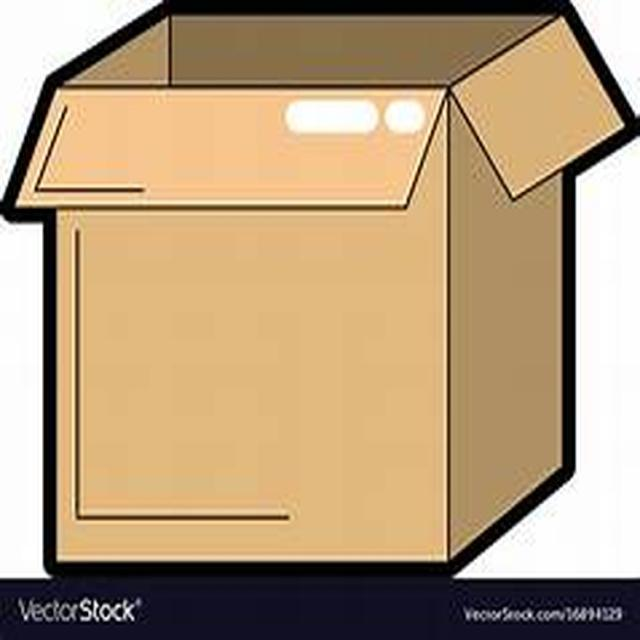box: (37, 18, 580, 590)
